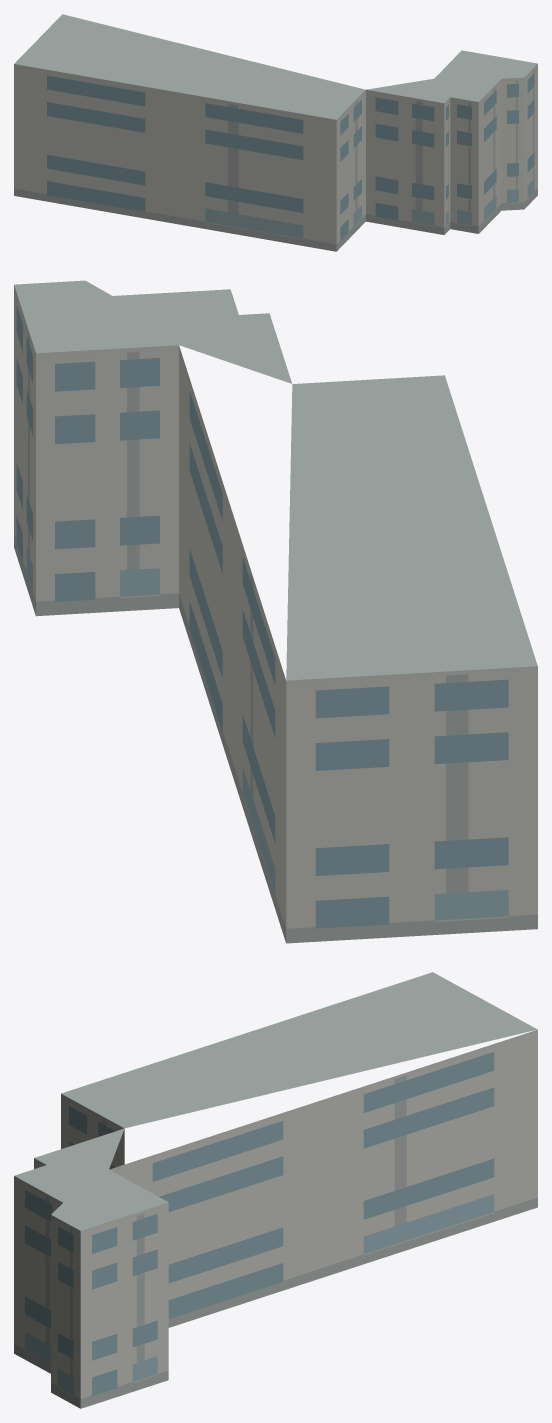
File: residential-9375c625-792e-4d44-bd76-b070995808c3.glb
The picture shows the model from 3 angles, top to bottom: view 1: azimuth 30°, elevation 25°; view 2: azimuth 150°, elevation 25°; view 3: azimuth 270°, elevation 25°; orthographic projection. The views are drawn at different scales.
Parts seen in each view (by area): view 1: residential-9375c625-792e-4d44-bd76-b070995808c3.tmp; view 2: residential-9375c625-792e-4d44-bd76-b070995808c3.tmp; view 3: residential-9375c625-792e-4d44-bd76-b070995808c3.tmp.
Boxes of the visible parts, bbox=[...] form: residential-9375c625-792e-4d44-bd76-b070995808c3.tmp: bbox=[14, 14, 537, 251]; residential-9375c625-792e-4d44-bd76-b070995808c3.tmp: bbox=[14, 280, 537, 943]; residential-9375c625-792e-4d44-bd76-b070995808c3.tmp: bbox=[14, 972, 537, 1408].
Size of the model in its own units: 47.61 by 15.25 by 40.72.
